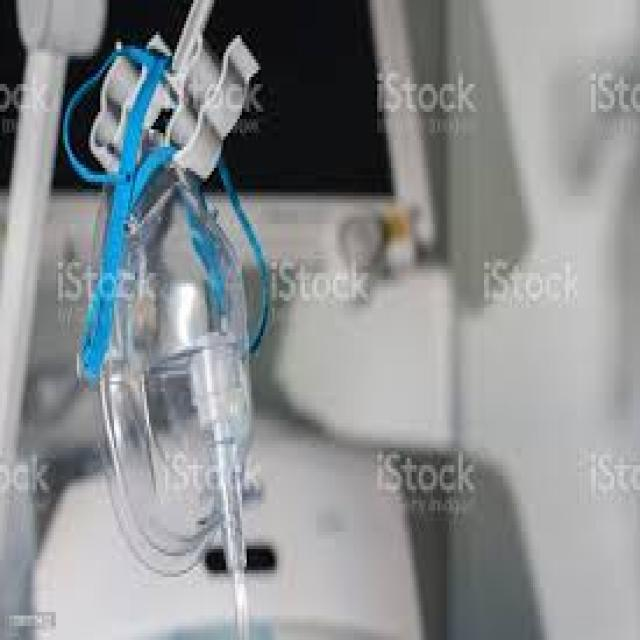oxygen_mask: (56, 76, 274, 536)
